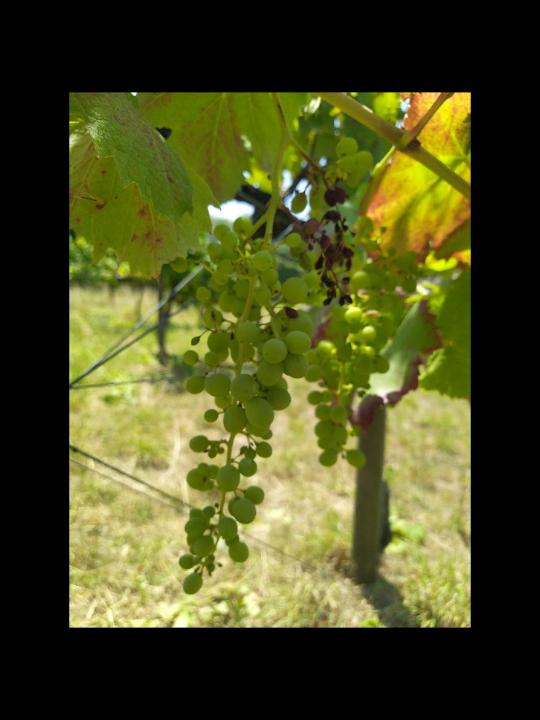grape: (166, 219, 322, 600), (308, 159, 367, 306)
